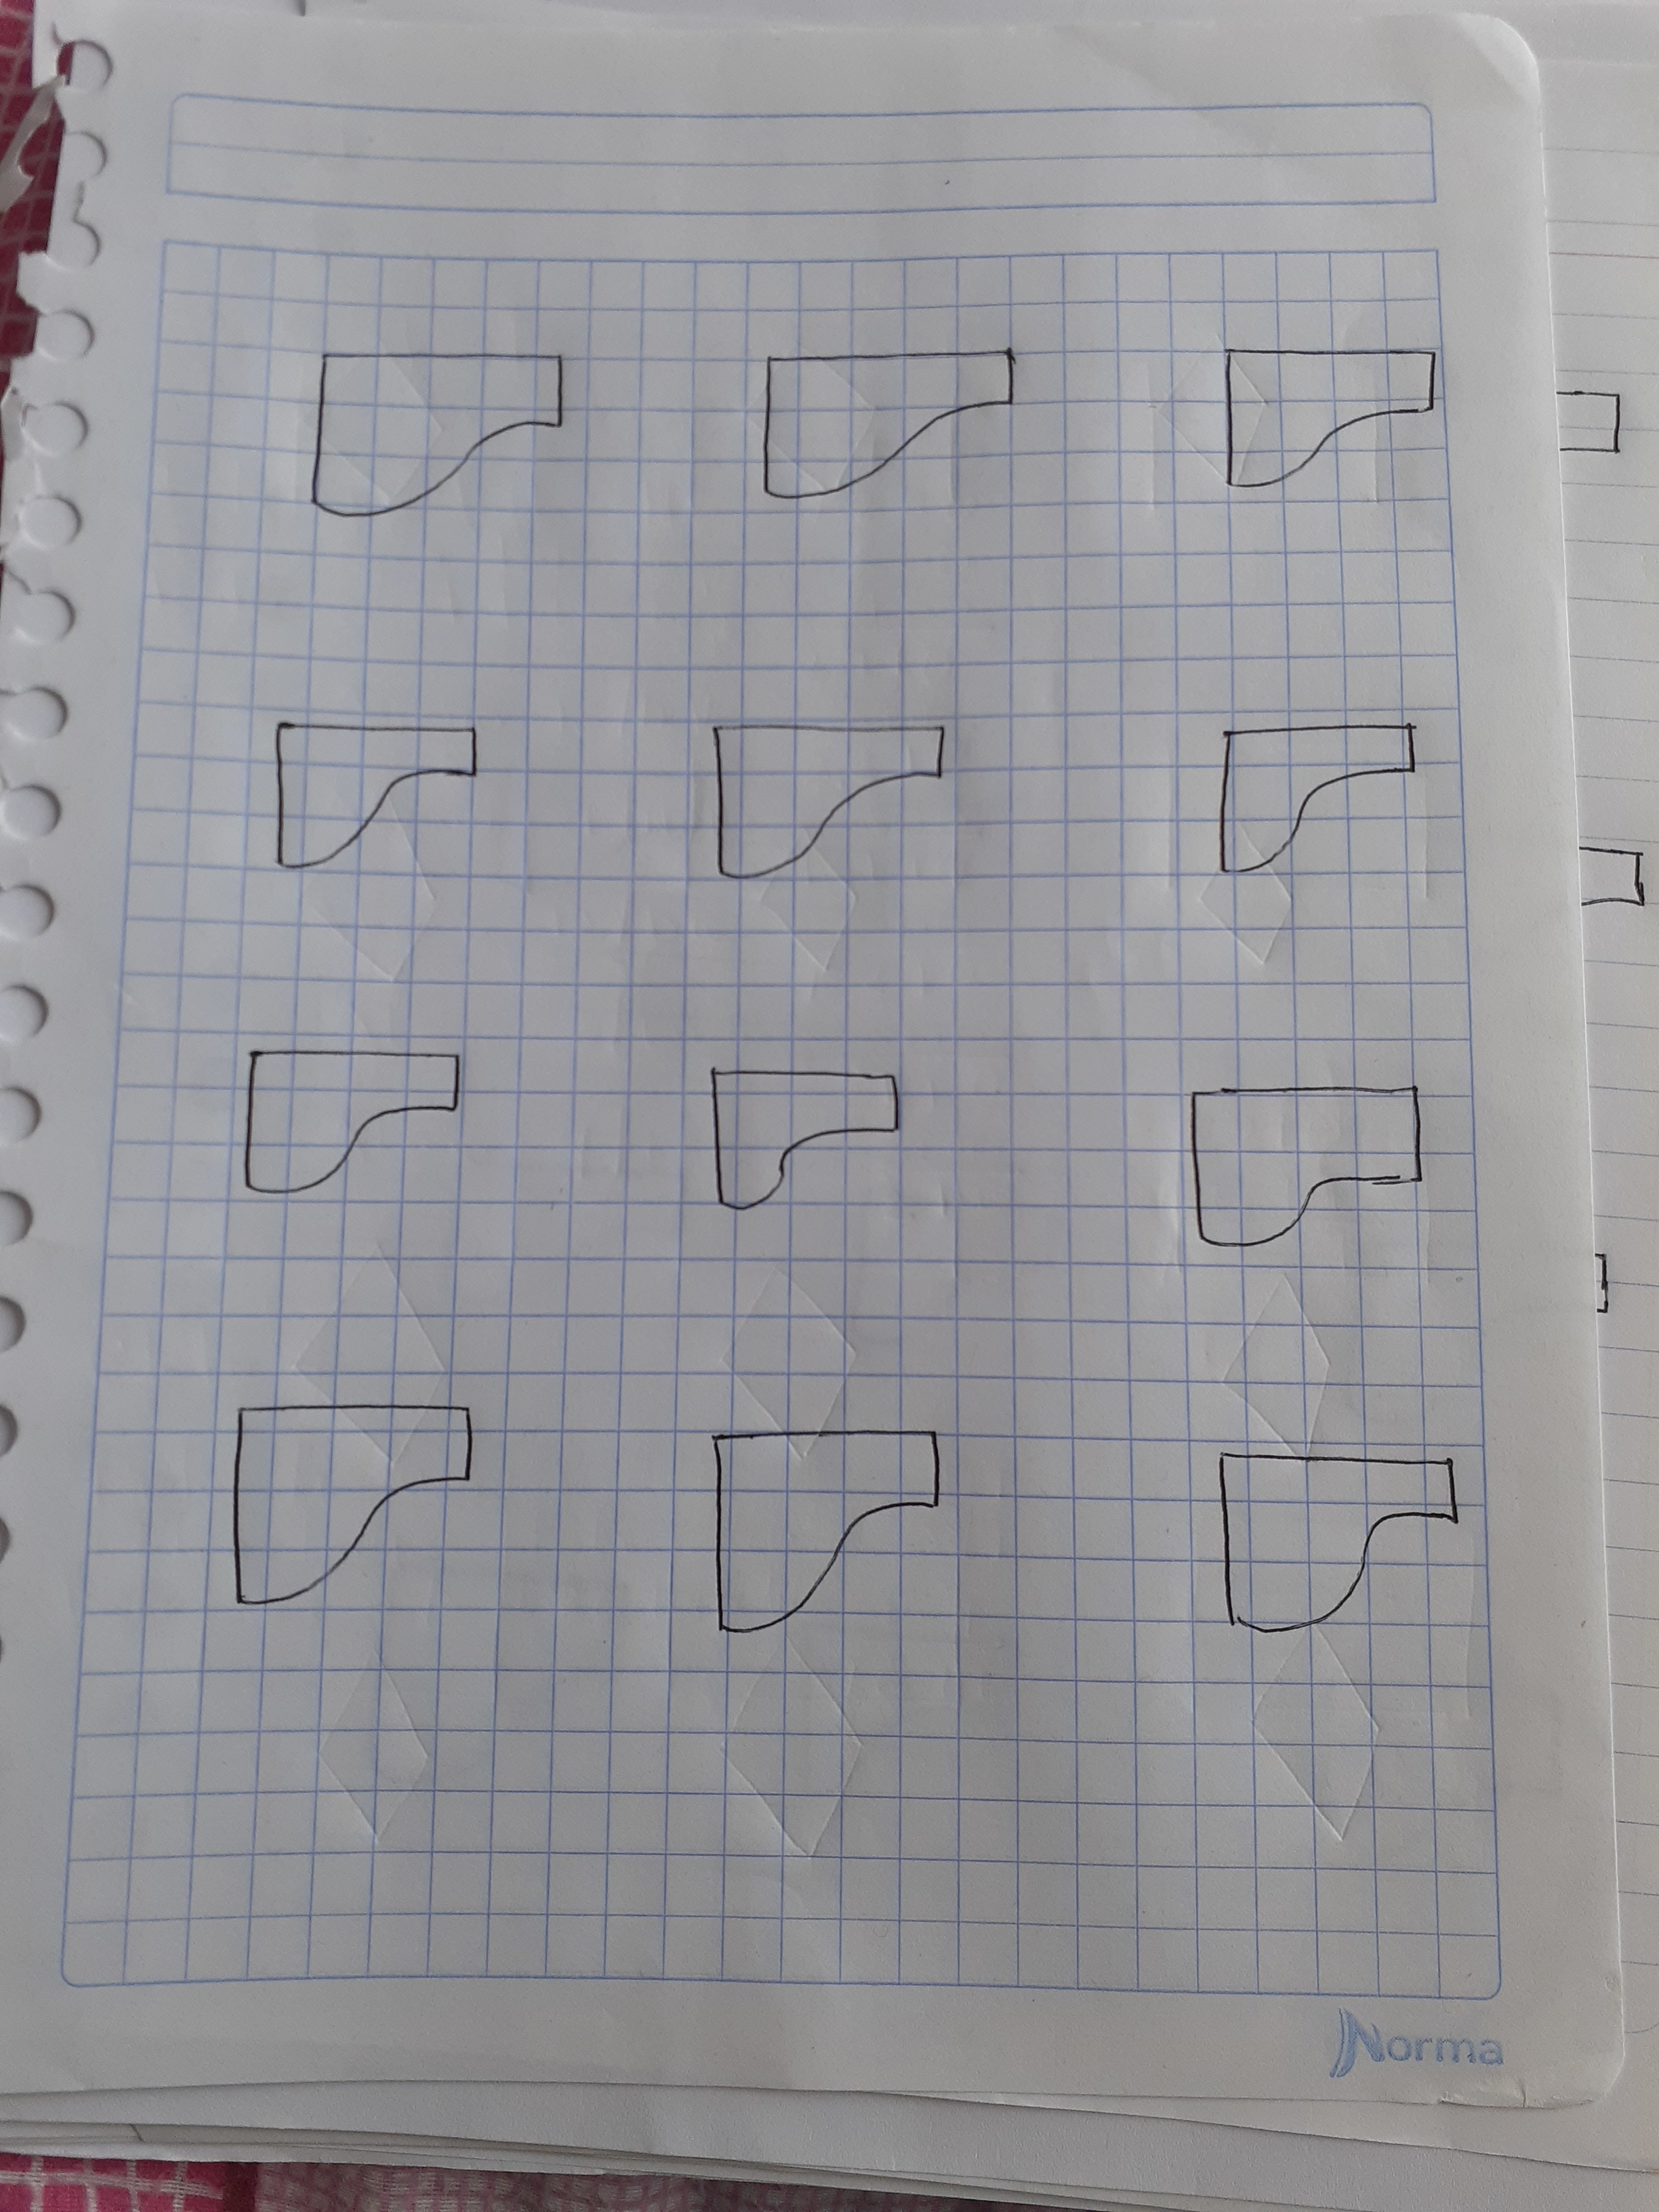print: (207, 672, 540, 951), (667, 1397, 1004, 1658), (186, 1371, 526, 1618), (1180, 310, 1506, 547), (1159, 1038, 1467, 1282), (1187, 1421, 1495, 1658), (279, 307, 601, 529), (662, 693, 997, 906), (739, 314, 1040, 533), (1183, 672, 1452, 916), (211, 1012, 505, 1228), (671, 1031, 936, 1235)
